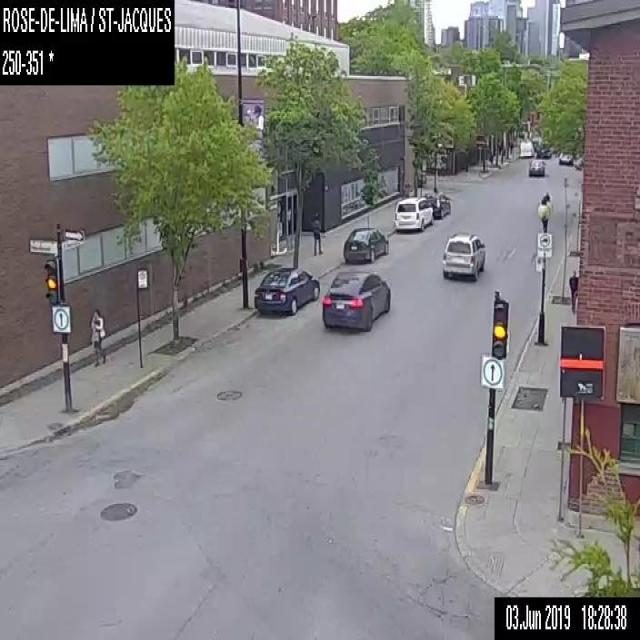pedestrian: (90, 310, 105, 366), (311, 212, 323, 255), (568, 270, 577, 310)
vehicle: (320, 269, 390, 331), (253, 265, 319, 315), (441, 231, 485, 280), (341, 226, 388, 262), (392, 193, 432, 232), (422, 189, 450, 219), (528, 158, 545, 176), (519, 139, 533, 157), (536, 144, 550, 157), (560, 151, 572, 164)
